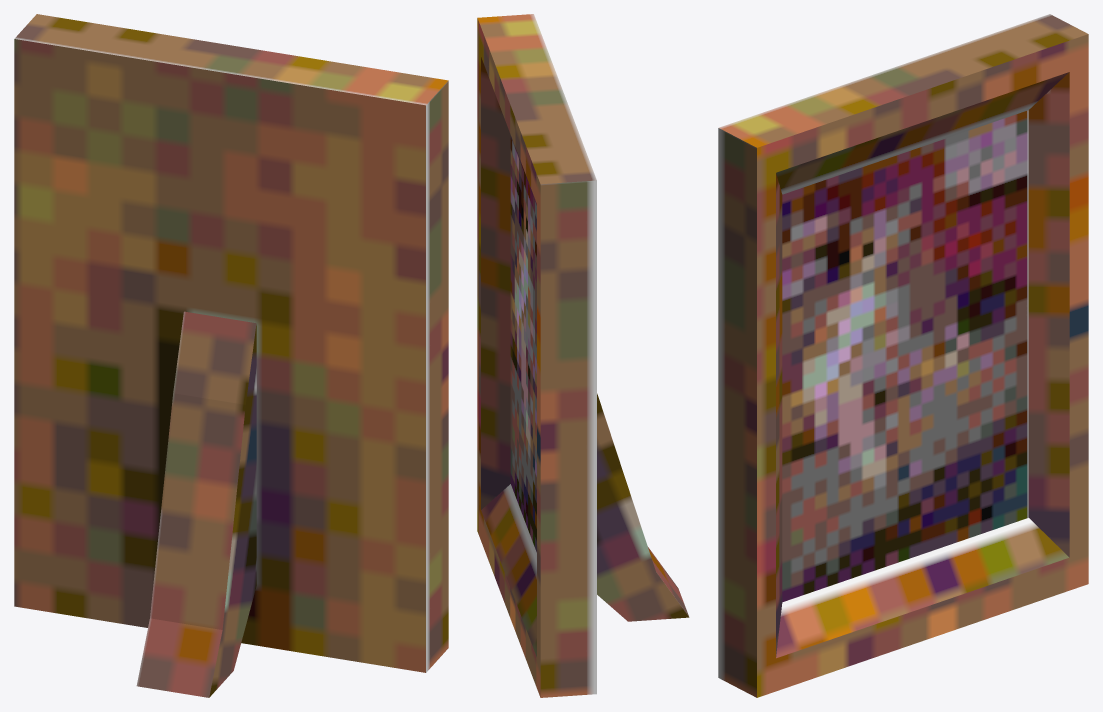
The model's file is porta_retratos.fbx.
The picture shows the model from 3 angles, left to right: view 1: azimuth 30°, elevation 25°; view 2: azimuth 150°, elevation 25°; view 3: azimuth 270°, elevation 25°; orthographic projection. The views are drawn at different scales.
Parts seen in each view (by area): view 1: Portaretrato1; view 2: Portaretrato1; view 3: Portaretrato1.
Part boxes in pixels (x1,y1,x2,y2): Portaretrato1: (14, 14, 448, 697); Portaretrato1: (477, 14, 689, 697); Portaretrato1: (718, 14, 1088, 697).
Size of the model in its own units: 0.4483 by 0.8588 by 0.5237.
